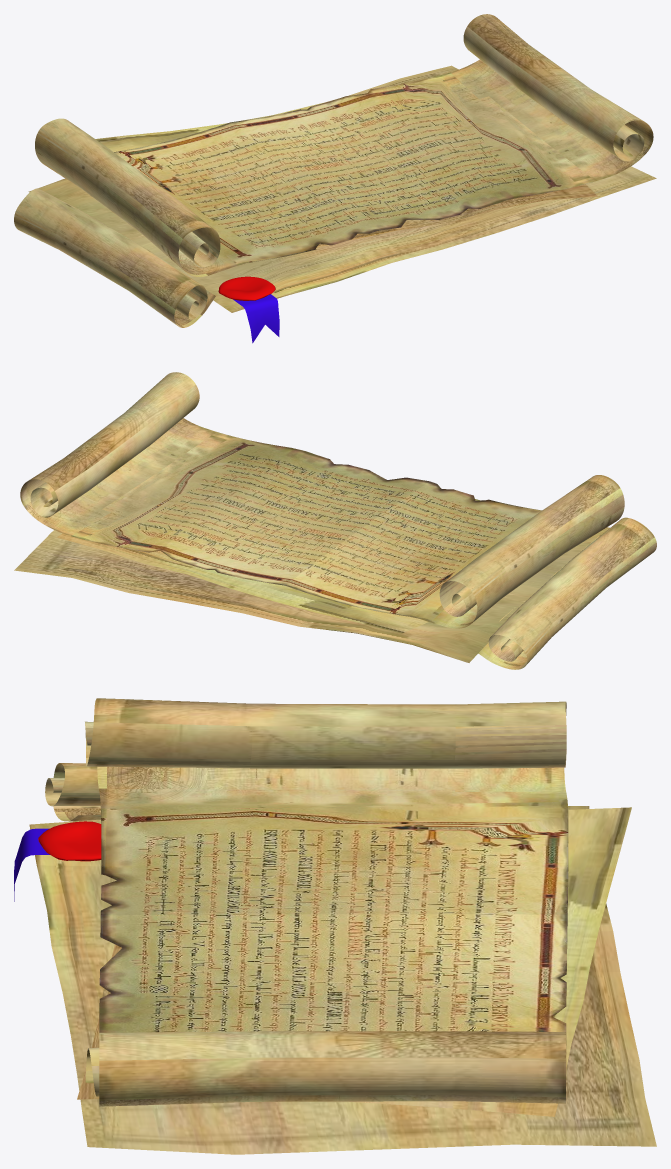
Rendered from pergamino013.glb.
3 views of the same model, one above another, from view 1: azimuth 30°, elevation 25°; view 2: azimuth 150°, elevation 25°; view 3: azimuth 270°, elevation 25° (orthographic). The views are drawn at different scales.
Parts seen in each view (by area): view 1: BezierCurve, Plano.001, BezierCurve_0.001, Plano, Plano.002, Esfera; view 2: BezierCurve, Plano.001, BezierCurve_0.001, Plano; view 3: BezierCurve, Plano.001, Plano, BezierCurve_0.001, Esfera, Plano.002.
Boxes of the visible parts, x1=… form: BezierCurve: x1=35, y1=14, x2=653, y2=276; Plano.001: x1=28, y1=65, x2=656, y2=312; BezierCurve_0.001: x1=14, y1=188, x2=215, y2=327; Plano: x1=95, y1=103, x2=597, y2=247; Plano.002: x1=233, y1=294, x2=279, y2=343; Esfera: x1=218, y1=276, x2=275, y2=300; BezierCurve: x1=20, y1=372, x2=624, y2=628; Plano.001: x1=14, y1=499, x2=609, y2=662; BezierCurve_0.001: x1=478, y1=517, x2=656, y2=669; Plano: x1=57, y1=533, x2=427, y2=633; BezierCurve: x1=85, y1=698, x2=568, y2=1106; Plano.001: x1=29, y1=806, x2=656, y2=1154; Plano: x1=77, y1=807, x2=631, y2=1116; BezierCurve_0.001: x1=45, y1=763, x2=100, y2=821; Esfera: x1=38, y1=821, x2=101, y2=861; Plano.002: x1=14, y1=828, x2=49, y2=901.
Bounding box in the file's own units: 5 × 0.9797 × 3.46.
3 materials, 1 textured.
